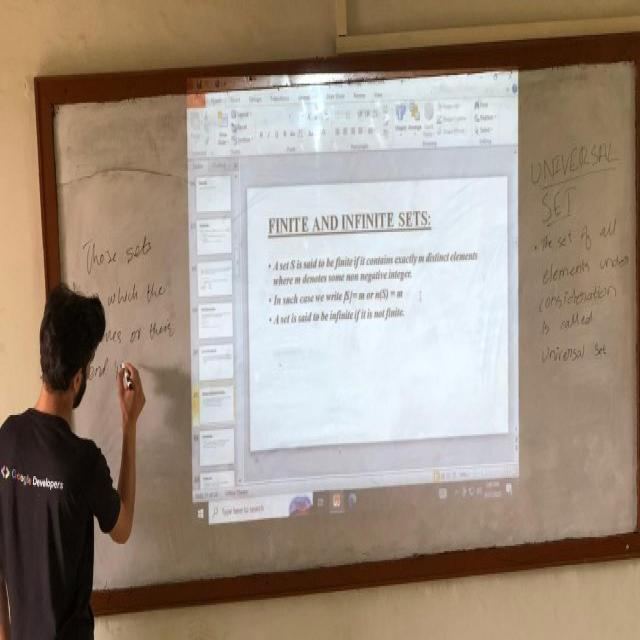Instructor: (15, 248, 120, 640)
Slide: (185, 72, 520, 538)
White-board: (46, 48, 640, 615)
